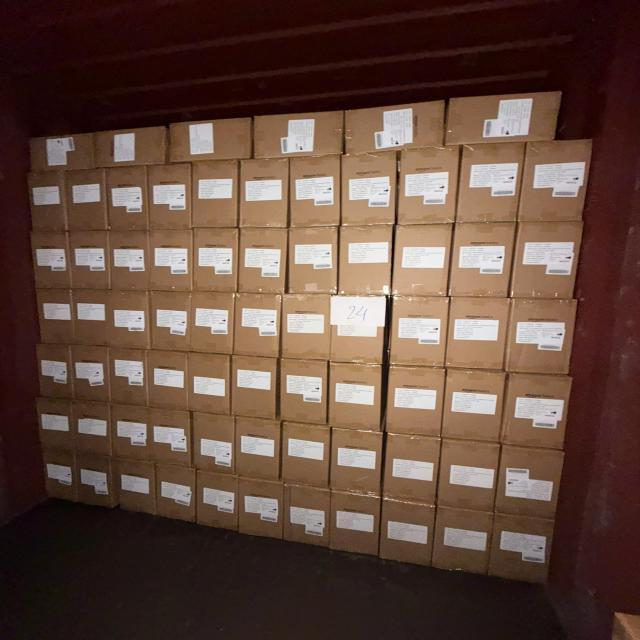Carton: (520, 141, 596, 225), (448, 96, 562, 147), (512, 221, 584, 301), (457, 142, 527, 224), (505, 298, 576, 376), (504, 374, 573, 452), (450, 222, 516, 300), (346, 104, 448, 153), (499, 443, 565, 518), (400, 146, 460, 226), (445, 299, 508, 374), (114, 406, 191, 467), (72, 292, 150, 351), (441, 370, 503, 444), (494, 517, 556, 590), (436, 439, 496, 514), (392, 224, 452, 298), (391, 298, 450, 371), (388, 365, 446, 438), (434, 503, 491, 577), (252, 113, 343, 159), (382, 434, 438, 508), (342, 155, 397, 230), (331, 297, 388, 367), (328, 364, 383, 436), (382, 499, 436, 570), (292, 156, 343, 231), (338, 226, 391, 297), (331, 425, 384, 496), (168, 119, 254, 162), (237, 159, 287, 231), (91, 124, 171, 169), (287, 228, 338, 297), (331, 490, 382, 558), (279, 296, 329, 362), (193, 161, 240, 231), (232, 414, 280, 482), (280, 425, 329, 491), (237, 230, 285, 297), (282, 486, 329, 554), (278, 361, 326, 427), (235, 295, 282, 360), (235, 476, 282, 541), (194, 230, 240, 296), (230, 354, 276, 420), (191, 410, 236, 475), (28, 130, 96, 173), (110, 460, 158, 520), (147, 167, 190, 233), (188, 352, 232, 415), (192, 294, 235, 358), (152, 232, 195, 295), (195, 471, 238, 534), (26, 170, 68, 234), (66, 169, 108, 232), (156, 463, 198, 526), (110, 168, 151, 232), (146, 347, 188, 409), (34, 394, 78, 453), (152, 291, 194, 352), (110, 230, 152, 290), (36, 447, 80, 502), (112, 404, 153, 463), (69, 229, 109, 289), (110, 290, 150, 350), (33, 231, 73, 288), (72, 346, 110, 404), (111, 347, 149, 405), (72, 401, 112, 456), (76, 456, 114, 512), (39, 292, 75, 347), (38, 344, 74, 398)
